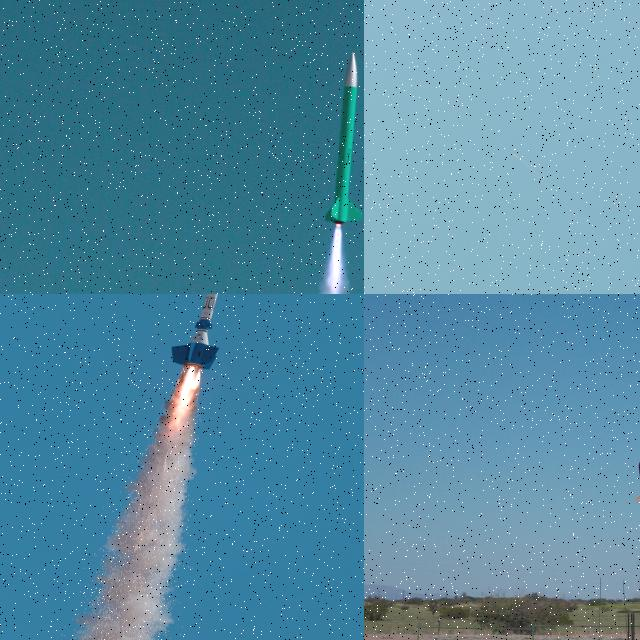Rocket: (322, 52, 363, 226), (169, 294, 226, 370), (634, 459, 640, 506), (512, 153, 520, 159)
